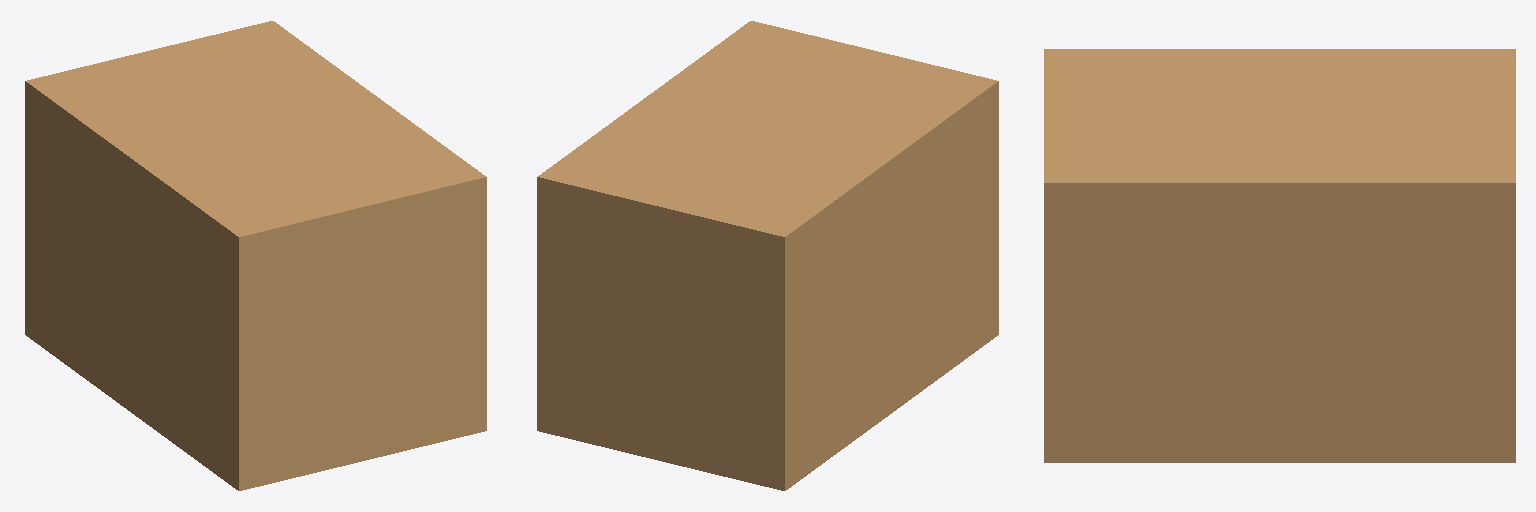
robot.urdf — iiwa:
<?xml version="1.0" encoding="utf-8"?>
<!-- =================================================================================== -->
<!-- |    This document was autogenerated by xacro from robots/iiwa.robot.xacro        | -->
<!-- |    EDITING THIS FILE BY HAND IS NOT RECOMMENDED                                 | -->
<!-- =================================================================================== -->
<robot name="iiwa">
  <material name="Grey">
    <color rgba="0.7 0.7 0.7 1.0"/>
  </material>
  <link name="world"/>
  <link name="robot_table_link">
    <inertial>
      <origin rpy="0 0 0" xyz="0 0 0"/>
      <mass value="200"/>
      <inertia ixx="0.1" ixy="0" ixz="0" iyy="0.1" iyz="0" izz="0.1"/>
    </inertial>
    <visual>
      <origin rpy="0 0 0" xyz="0 0 0"/>
      <geometry>
        <box size="0.612 0.9144 0.6"/>
      </geometry>
      <material name="table_color">
        <color rgba="0.823529411765 0.666666666667 0.470588235294 1.0"/>
      </material>
    </visual>
    <collision>
      <origin rpy="0 0 0" xyz="0 0 0"/>
      <geometry>
        <box size="0.612 0.9144 0.6"/>
      </geometry>
    </collision>
  </link>
  <gazebo reference="robot_table_link">
    <material>Gazebo/DarkGrey</material>
  </gazebo>
  <joint name="world_to_table" type="fixed">
    <parent link="world"/>
    <child link="robot_table_link"/>
    <origin rpy="0 0 0" xyz="0 0 0.3"/>
  </joint>
  <joint name="robot_table_link_to_iiwa" type="fixed">
    <origin rpy="0 0 0" xyz="0 0 0.3"/>
    <parent link="robot_table_link"/>
    <child link="iiwa_link_0"/>
  </joint>
  <link name="iiwa_link_0">
    <inertial>
      <origin rpy="0 0 0" xyz="-0.1 0 0.07"/>
      <mass value="5"/>
      <inertia ixx="0.05" ixy="0" ixz="0" iyy="0.06" iyz="0" izz="0.03"/>
    </inertial>
    <visual>
      <origin rpy="0 0 0" xyz="0 0 0"/>
      <geometry>
        <mesh filename="[local-path]/curobo/src/curobo/content/assets/robot/iiwa_allegro_description/meshes/iiwa/visual/link_0.dae"/>
      </geometry>
      <material name="Grey"/>
    </visual>
    <collision>
      <origin rpy="0 0 0" xyz="0 0 0"/>
      <geometry>
        <mesh filename="[local-path]/curobo/src/curobo/content/assets/robot/iiwa_allegro_description/meshes/iiwa/collision/link_0.stl"/>
      </geometry>
      <material name="Grey"/>
    </collision>
  </link>
  <joint name="iiwa_joint_1" type="revolute">
    <parent link="iiwa_link_0"/>
    <child link="iiwa_link_1"/>
    <origin rpy="0 0 0" xyz="0 0 0.1575"/>
    <axis xyz="0 0 1"/>
    <limit effort="300" lower="-2.96705972839" upper="2.96705972839" velocity="1.4835298642"/>
    <dynamics damping="20"/>
  </joint>
  <link name="iiwa_link_1">
    <inertial>
      <origin rpy="0 0 0" xyz="0 -0.03 0.12"/>
      <mass value="4"/>
      <inertia ixx="0.1" ixy="0" ixz="0" iyy="0.09" iyz="0" izz="0.02"/>
    </inertial>
    <visual>
      <origin rpy="0 0 0" xyz="0 0 0"/>
      <geometry>
        <mesh filename="[local-path]/curobo/src/curobo/content/assets/robot/iiwa_allegro_description/meshes/iiwa/visual/link_1.dae"/>
      </geometry>
      <material name="Grey"/>
    </visual>
    <collision>
      <origin rpy="0 0 0" xyz="0 0 0"/>
      <geometry>
        <mesh filename="[local-path]/curobo/src/curobo/content/assets/robot/iiwa_allegro_description/meshes/iiwa/collision/link_1.stl"/>
      </geometry>
      <material name="Grey"/>
    </collision>
  </link>
  <joint name="iiwa_joint_2" type="revolute">
    <parent link="iiwa_link_1"/>
    <child link="iiwa_link_2"/>
    <origin rpy="1.57079632679   0 3.14159265359" xyz="0 0 0.2025"/>
    <axis xyz="0 0 1"/>
    <limit effort="300" lower="-2.09439510239" upper="2.09439510239" velocity="1.4835298642"/>
    <dynamics damping="20"/>
  </joint>
  <link name="iiwa_link_2">
    <inertial>
      <origin rpy="0 0 0" xyz="0.0003 0.059 0.042"/>
      <mass value="4"/>
      <inertia ixx="0.05" ixy="0" ixz="0" iyy="0.018" iyz="0" izz="0.044"/>
    </inertial>
    <visual>
      <origin rpy="0 0 0" xyz="0 0 0"/>
      <geometry>
        <mesh filename="[local-path]/curobo/src/curobo/content/assets/robot/iiwa_allegro_description/meshes/iiwa/visual/link_2.dae"/>
      </geometry>
      <material name="Grey"/>
    </visual>
    <collision>
      <origin rpy="0 0 0" xyz="0 0 0"/>
      <geometry>
        <mesh filename="[local-path]/curobo/src/curobo/content/assets/robot/iiwa_allegro_description/meshes/iiwa/collision/link_2.stl"/>
      </geometry>
      <material name="Grey"/>
    </collision>
  </link>
  <joint name="iiwa_joint_3" type="revolute">
    <parent link="iiwa_link_2"/>
    <child link="iiwa_link_3"/>
    <origin rpy="1.57079632679 0 3.14159265359" xyz="0 0.2045 0"/>
    <axis xyz="0 0 1"/>
    <limit effort="300" lower="-2.96705972839" upper="2.96705972839" velocity="1.74532925199"/>
    <dynamics damping="20"/>
  </joint>
  <link name="iiwa_link_3">
    <inertial>
      <origin rpy="0 0 0" xyz="0 0.03 0.13"/>
      <mass value="3"/>
      <inertia ixx="0.08" ixy="0" ixz="0" iyy="0.075" iyz="0" izz="0.01"/>
    </inertial>
    <visual>
      <origin rpy="0 0 0" xyz="0 0 0"/>
      <geometry>
        <mesh filename="[local-path]/curobo/src/curobo/content/assets/robot/iiwa_allegro_description/meshes/iiwa/visual/link_3.dae"/>
      </geometry>
      <material name="Grey"/>
    </visual>
    <collision>
      <origin rpy="0 0 0" xyz="0 0 0"/>
      <geometry>
        <mesh filename="[local-path]/curobo/src/curobo/content/assets/robot/iiwa_allegro_description/meshes/iiwa/collision/link_3.stl"/>
      </geometry>
      <material name="Grey"/>
    </collision>
  </link>
  <joint name="iiwa_joint_4" type="revolute">
    <parent link="iiwa_link_3"/>
    <child link="iiwa_link_4"/>
    <origin rpy="1.57079632679 0 0" xyz="0 0 0.2155"/>
    <axis xyz="0 0 1"/>
    <limit effort="300" lower="-2.09439510239" upper="2.09439510239" velocity="1.308996939"/>
    <dynamics damping="20"/>
  </joint>
  <link name="iiwa_link_4">
    <inertial>
      <origin rpy="0 0 0" xyz="0 0.067 0.034"/>
      <mass value="2.7"/>
      <inertia ixx="0.03" ixy="0" ixz="0" iyy="0.01" iyz="0" izz="0.029"/>
    </inertial>
    <visual>
      <origin rpy="0 0 0" xyz="0 0 0"/>
      <geometry>
        <mesh filename="[local-path]/curobo/src/curobo/content/assets/robot/iiwa_allegro_description/meshes/iiwa/visual/link_4.dae"/>
      </geometry>
      <material name="Grey"/>
    </visual>
    <collision>
      <origin rpy="0 0 0" xyz="0 0 0"/>
      <geometry>
        <mesh filename="[local-path]/curobo/src/curobo/content/assets/robot/iiwa_allegro_description/meshes/iiwa/collision/link_4.stl"/>
      </geometry>
      <material name="Grey"/>
    </collision>
  </link>
  <joint name="iiwa_joint_5" type="revolute">
    <parent link="iiwa_link_4"/>
    <child link="iiwa_link_5"/>
    <origin rpy="-1.57079632679 3.14159265359 0" xyz="0 0.1845 0"/>
    <axis xyz="0 0 1"/>
    <limit effort="300" lower="-2.96705972839" upper="2.96705972839" velocity="2.26892802759"/>
    <dynamics damping="20"/>
  </joint>
  <link name="iiwa_link_5">
    <inertial>
      <origin rpy="0 0 0" xyz="0.0001 0.021 0.076"/>
      <mass value="1.7"/>
      <inertia ixx="0.02" ixy="0" ixz="0" iyy="0.018" iyz="0" izz="0.005"/>
    </inertial>
    <visual>
      <origin rpy="0 0 0" xyz="0 0 0"/>
      <geometry>
        <mesh filename="[local-path]/curobo/src/curobo/content/assets/robot/iiwa_allegro_description/meshes/iiwa/visual/link_5.dae"/>
      </geometry>
      <material name="Grey"/>
    </visual>
    <collision>
      <origin rpy="0 0 0" xyz="0 0 0"/>
      <geometry>
        <mesh filename="[local-path]/curobo/src/curobo/content/assets/robot/iiwa_allegro_description/meshes/iiwa/collision/link_5.stl"/>
      </geometry>
      <material name="Grey"/>
    </collision>
  </link>
  <joint name="iiwa_joint_6" type="revolute">
    <parent link="iiwa_link_5"/>
    <child link="iiwa_link_6"/>
    <origin rpy="1.57079632679 0 0" xyz="0 0 0.2155"/>
    <axis xyz="0 0 1"/>
    <limit effort="300" lower="-2.09439510239" upper="2.09439510239" velocity="2.35619449019"/>
    <dynamics damping="20"/>
  </joint>
  <link name="iiwa_link_6">
    <inertial>
      <origin rpy="0 0 0" xyz="0 0.0006 0.0004"/>
      <mass value="1.8"/>
      <inertia ixx="0.005" ixy="0" ixz="0" iyy="0.0036" iyz="0" izz="0.0047"/>
    </inertial>
    <visual>
      <origin rpy="0 0 0" xyz="0 0 0"/>
      <geometry>
        <mesh filename="[local-path]/curobo/src/curobo/content/assets/robot/iiwa_allegro_description/meshes/iiwa/visual/link_6.dae"/>
      </geometry>
      <material name="Grey"/>
    </visual>
    <collision>
      <origin rpy="0 0 0" xyz="0 0 0"/>
      <geometry>
        <mesh filename="[local-path]/curobo/src/curobo/content/assets/robot/iiwa_allegro_description/meshes/iiwa/collision/link_6.stl"/>
      </geometry>
      <material name="Grey"/>
    </collision>
  </link>
  <joint name="iiwa_joint_7" type="revolute">
    <parent link="iiwa_link_6"/>
    <child link="iiwa_link_7"/>
    <origin rpy="-1.57079632679 3.14159265359 0" xyz="0 0.081 0"/>
    <axis xyz="0 0 1"/>
    <limit effort="300" lower="-3.05432619099" upper="3.05432619099" velocity="2.35619449019"/>
    <dynamics damping="20"/>
  </joint>
  <link name="iiwa_link_7">
    <inertial>
      <origin rpy="0 0 0" xyz="0 0 0.02"/>
      <mass value="0.3"/>
      <inertia ixx="0.001" ixy="0" ixz="0" iyy="0.001" iyz="0" izz="0.001"/>
    </inertial>
    <visual>
      <origin rpy="0 0 0" xyz="0 0 0"/>
      <geometry>
        <mesh filename="[local-path]/curobo/src/curobo/content/assets/robot/iiwa_allegro_description/meshes/iiwa/visual/link_7.dae"/>
      </geometry>
      <material name="Grey"/>
    </visual>
    <collision>
      <origin rpy="0 0 0" xyz="0 0 0"/>
      <geometry>
        <mesh filename="[local-path]/curobo/src/curobo/content/assets/robot/iiwa_allegro_description/meshes/iiwa/collision/link_7.stl"/>
      </geometry>
      <material name="Grey"/>
    </collision>
  </link>
  <joint name="iiwa_joint_ee" type="fixed">
    <parent link="iiwa_link_7"/>
    <child link="iiwa_link_ee"/>
    <origin rpy="0 0 0" xyz="0 0 0.045"/>
  </joint>
  <link name="iiwa_link_ee">
  </link>
</robot>

--- Render facts (derived) ---
3 views of the same robot in one strip: view 1: azimuth 30°, elevation 25°; view 2: azimuth 150°, elevation 25°; view 3: azimuth 270°, elevation 25° (orthographic).
Robot: iiwa — 11 links, 10 joints (7 revolute, 3 fixed); root link world; default pose: all joints at 0.
Links seen in each view (by area): view 1: robot_table_link; view 2: robot_table_link; view 3: robot_table_link.
Link boxes in pixels (x1,y1,x2,y2): robot_table_link: (25, 21, 486, 490); robot_table_link: (537, 21, 998, 490); robot_table_link: (1044, 49, 1515, 462).
Size in the robot's own frame: 0.612 by 0.9144 by 0.6 metres.
Geometry: only primitive shapes (box / cylinder / sphere) drawn; not drawn: 8 mesh visuals (reference in a form the renderer does not follow).